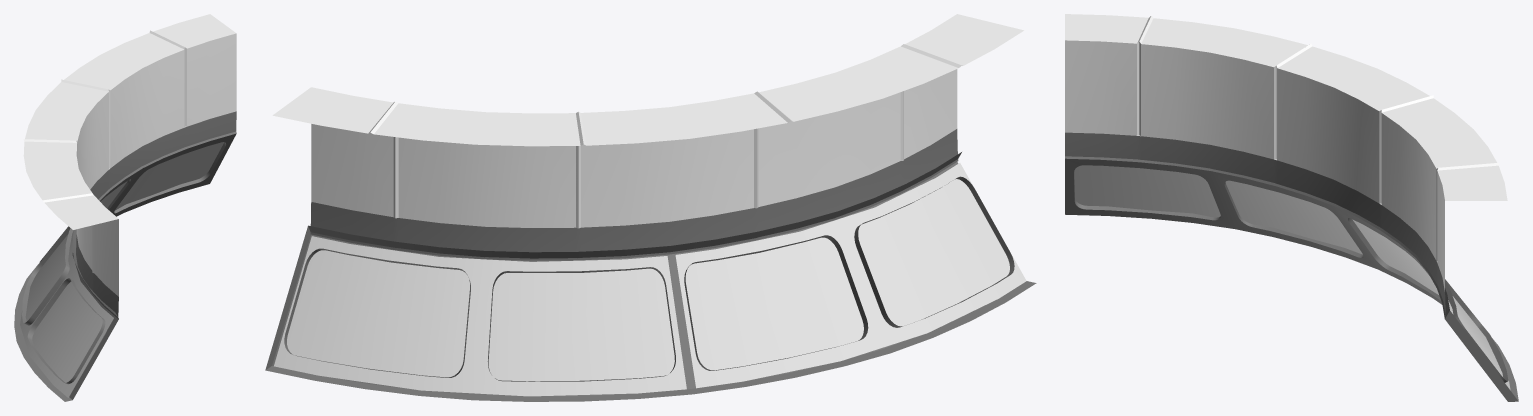
File: q-scifi-mod-topwindow-corner-curve-inner.glb
3 renders of one model, left to right at view 1: azimuth 30°, elevation 25°; view 2: azimuth 150°, elevation 25°; view 3: azimuth 270°, elevation 25°, orthographic. The views are drawn at different scales.
Visible parts, largest first — view 1: TopWindow_Corner_Curve_Inner; view 2: TopWindow_Corner_Curve_Inner; view 3: TopWindow_Corner_Curve_Inner.
Part boxes in pixels (left/top/right/bottom): TopWindow_Corner_Curve_Inner: left=14, top=14, right=236, bottom=401; TopWindow_Corner_Curve_Inner: left=265, top=14, right=1036, bottom=401; TopWindow_Corner_Curve_Inner: left=1065, top=14, right=1518, bottom=401.
Bounding box in the file's own units: 4.1 × 2.02 × 4.1.
Materials: 4 (2 with a texture image).
